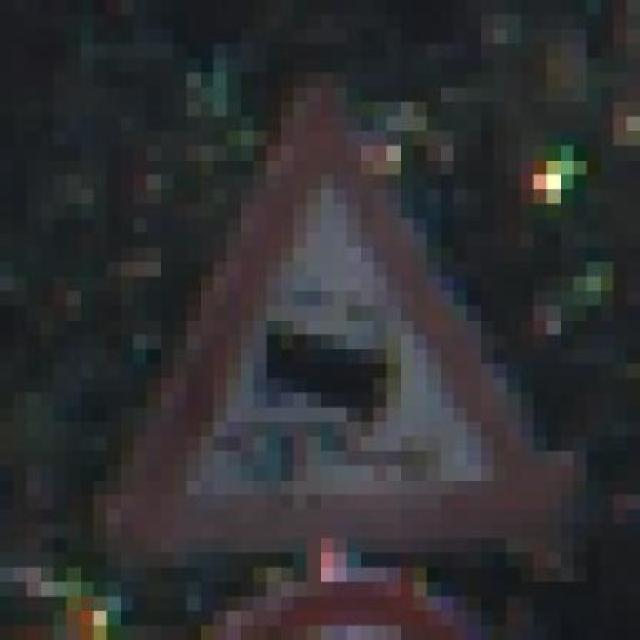Slippery Road Ahead: (107, 59, 587, 568)
